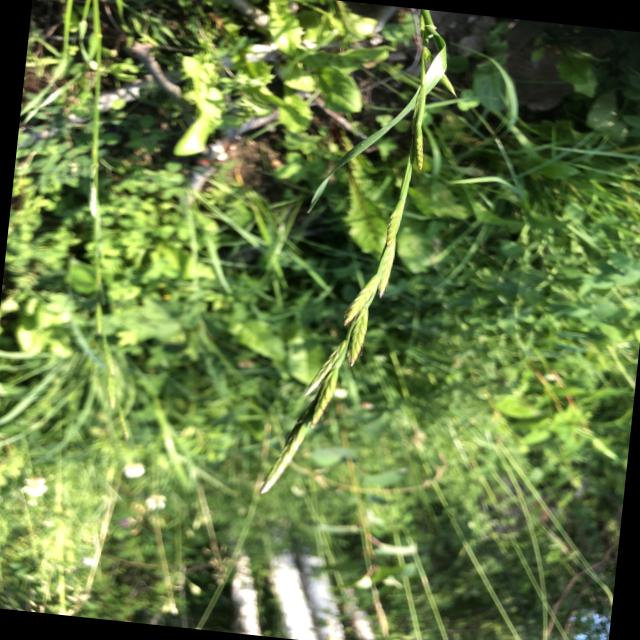Lolium: (251, 0, 462, 511)
